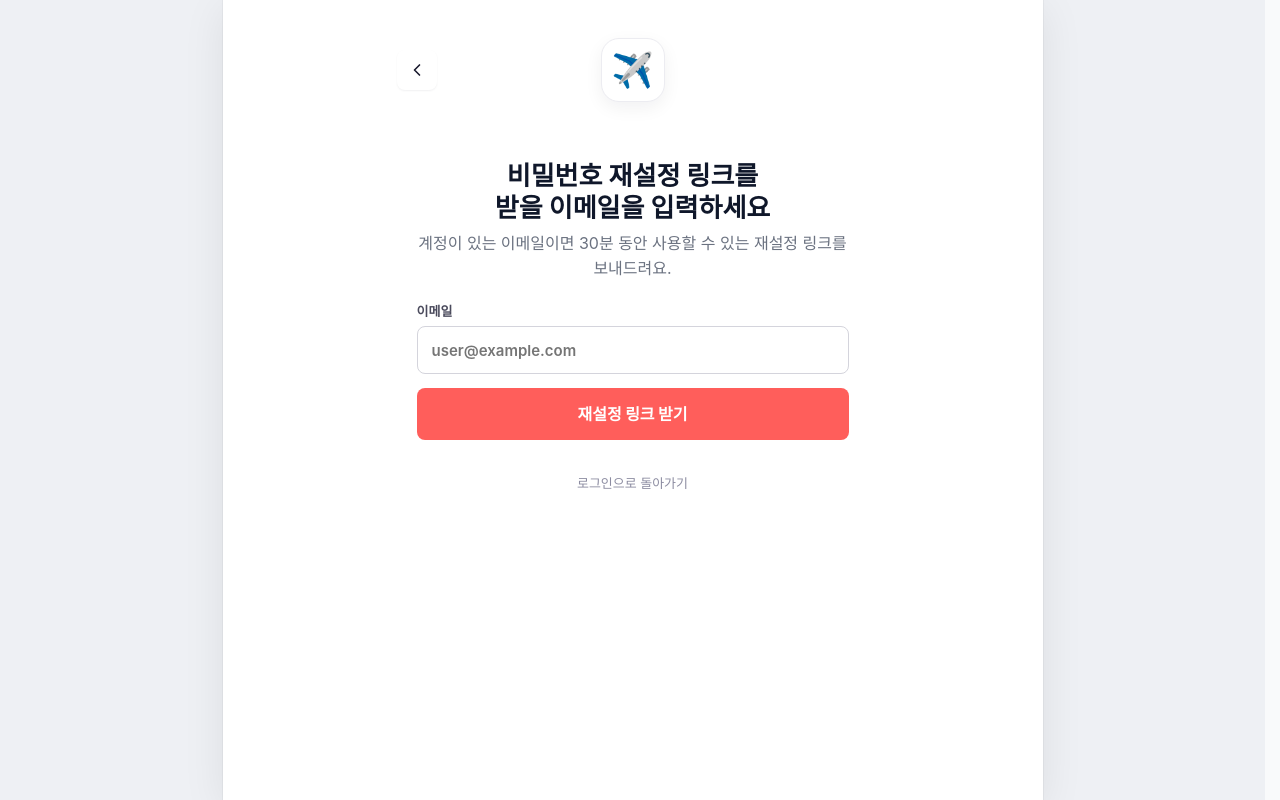
Test: Travel Hunter app — profile, invites, OAuth & sharing › requests a password reset email from the forgot password page
Expected: the element with class "ds-auth-form-shell" is shown, [392, 112, 872, 574]
Type "test.user@example.com" into the field labelled "이메일".
click(632, 350); type("test.user@example.com")  # box [416, 326, 848, 374]
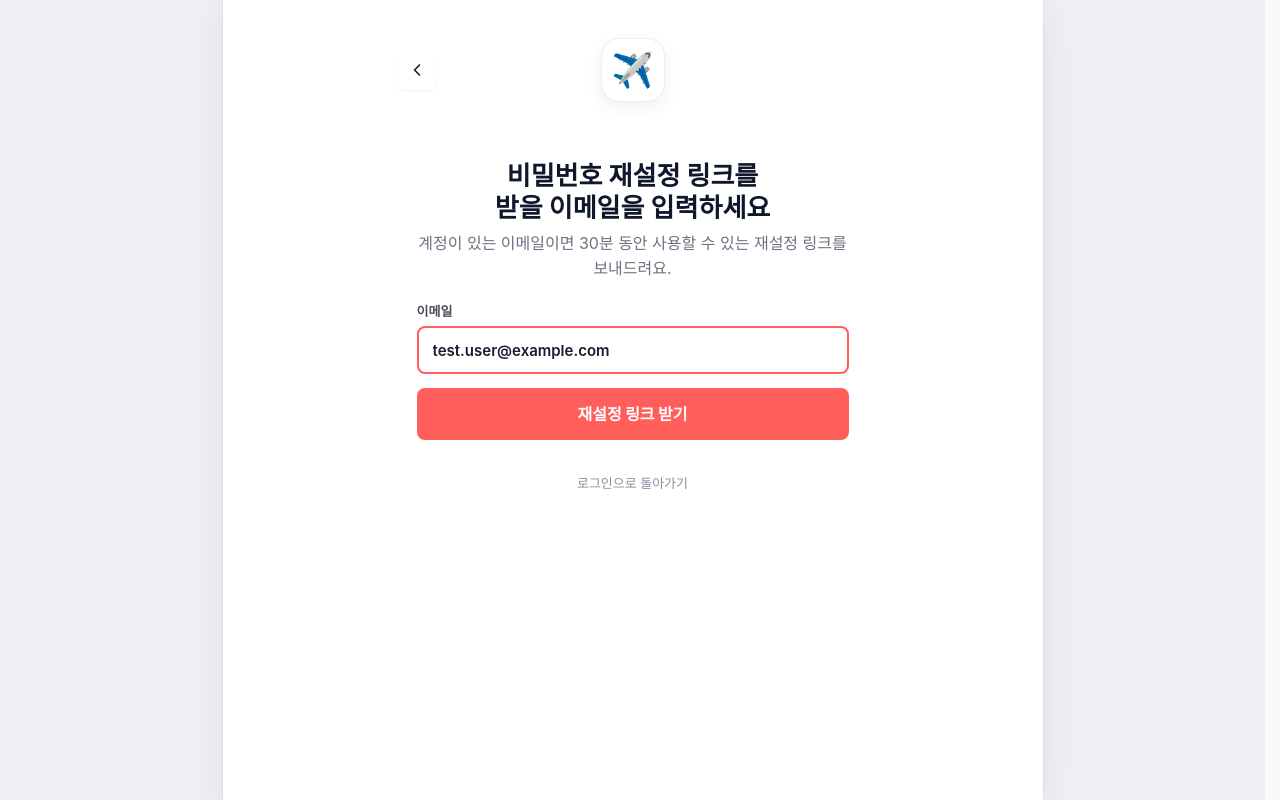
Click the button "재설정 링크 받기".
click(632, 414)  # box [416, 388, 848, 440]
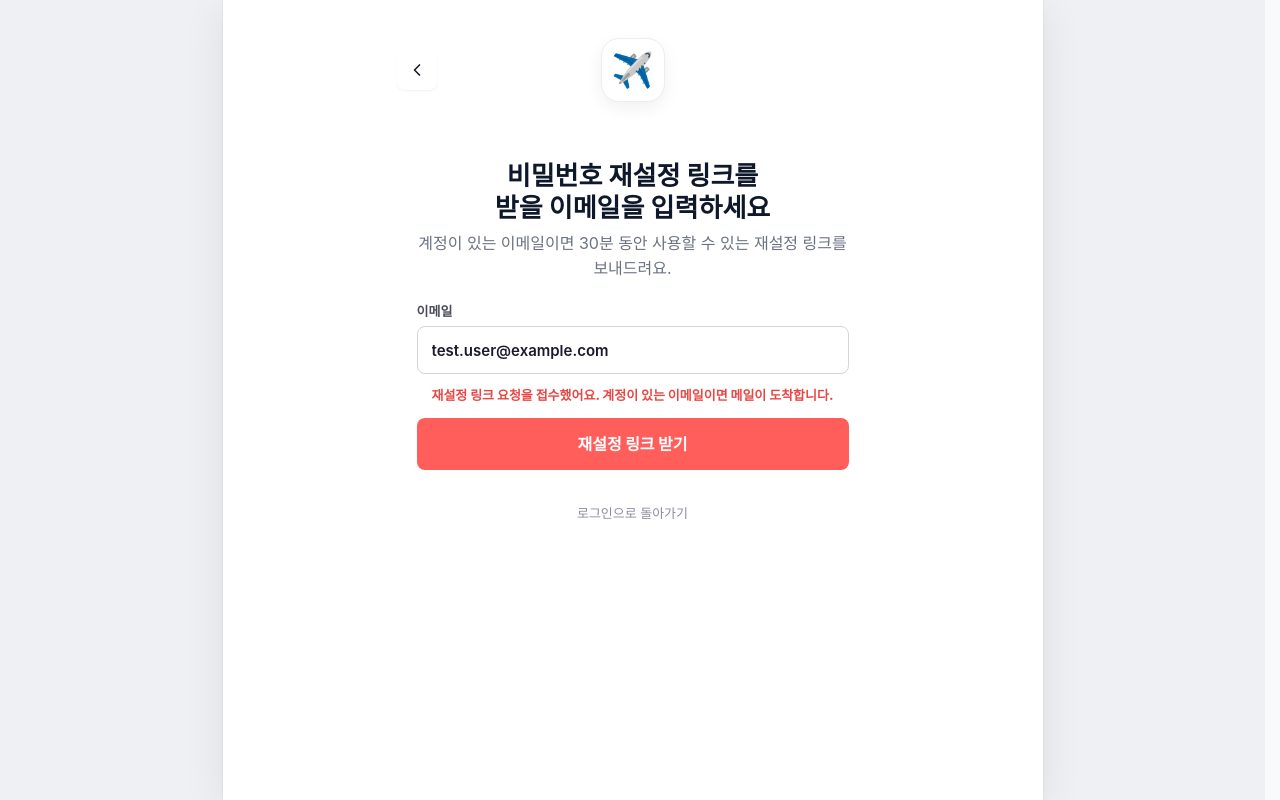
Expected: the text "재설정 링크 요청을 접수했어요. 계정이 있는 이메일이면 메일이 도착합니다." is shown, [416, 386, 848, 404]
